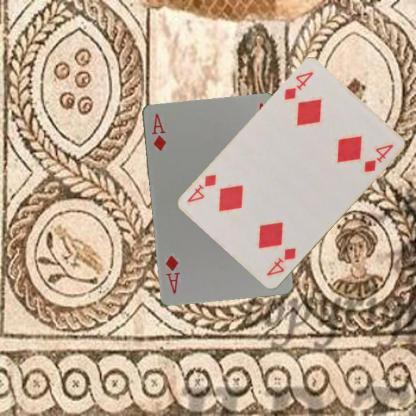4d: (264, 246, 298, 278), (281, 70, 315, 102)
Ad: (148, 110, 167, 152)
